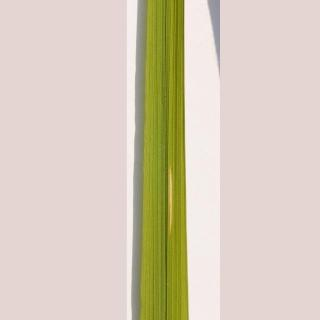Hawar-Daun: (161, 148, 181, 250)
